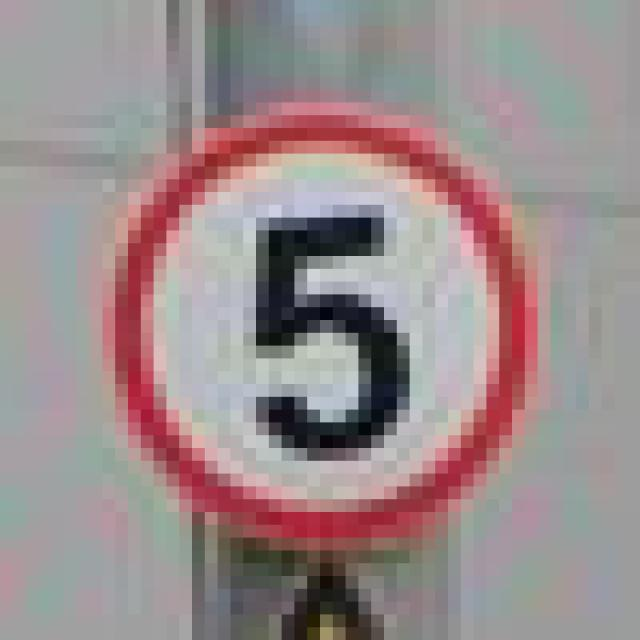speed_limit_20: (90, 90, 524, 538)
